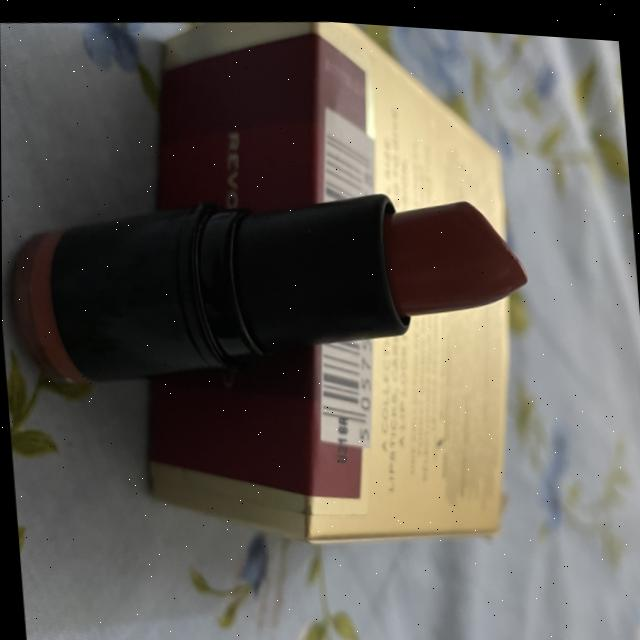lip stick: (1, 142, 547, 433)
